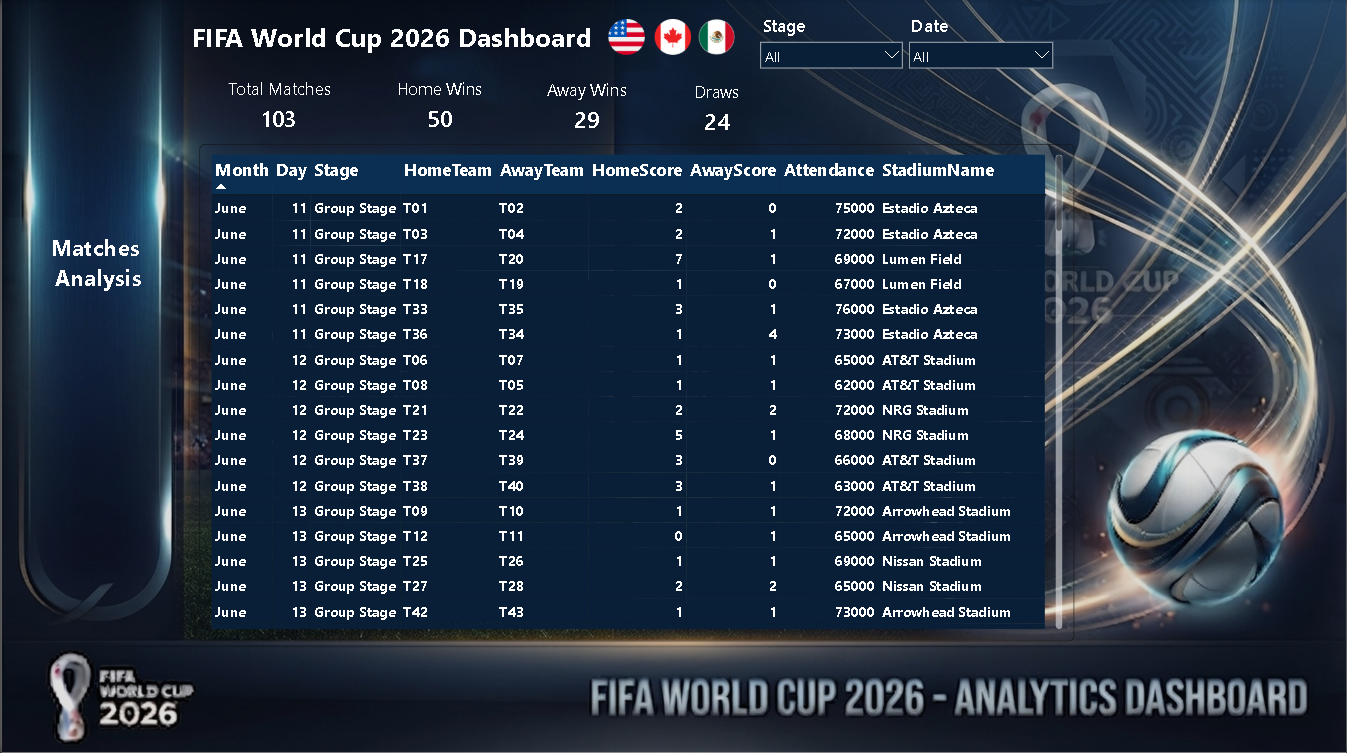

The dashboard page shown, as its layout file describes it:
{"tool":"powerbi","page":{"name":"Matches","canvas":[1920,1080],"ordinal":3},"visuals":[{"type":"textbox","box":[42.2,332.9,189.9,93.8],"z":0},{"type":"cardVisual","fields":{"Data":["Dax.Total Matches"]},"box":[281.3,100.8,229.8,103.2],"z":1000},{"type":"textbox","box":[260.2,28.1,600.2,72.7],"z":2000},{"type":"image","box":[860.4,28.1,63.3,51.6],"z":3000},{"type":"image","box":[926.1,28.1,63.3,51.6],"z":4000},{"type":"image","box":[989.4,28.1,63.3,51.6],"z":5000},{"type":"cardVisual","fields":{"Data":["Dax.Home Wins"]},"box":[511.1,100.8,229.8,103.2],"z":6000},{"type":"cardVisual","fields":{"Data":["Dax.Away Wins"]},"box":[712.7,100.8,246.2,105.5],"z":7000},{"type":"cardVisual","fields":{"Data":["Dax.Draws"]},"box":[897.9,103.2,246.2,103.2],"z":8000},{"type":"tableEx","fields":{"Values":["4_Matches.Date.Variation.Date Hierarchy.Month","4_Matches.Date.Variation.Date Hierarchy.Day","4_Matches.Stage","4_Matches.HomeTeamID","4_Matches.AwayTeamID","4_Matches.HomeScore","4_Matches.AwayScore","4_Matches.Attendance","3_Stadiums.StadiumName"]},"box":[281.3,206.3,1249.6,710.4],"z":9000},{"type":"slicer","fields":{"Values":["4_Matches.Stage"]},"box":[1078.5,21.1,213.3,79.7],"z":10000},{"type":"slicer","fields":{"Values":["4_Matches.Date"]},"box":[1291.8,21.1,215.7,79.7],"z":11000}]}

Visuals, with their boxes in screenshot pixels (x1, y1, x2, y2), scaled from the page's 1920x1080 canvas onto the 1347x753 screenshot:
textbox: [30,232,163,298]
cardVisual - Dax.Total Matches: [197,70,359,142]
textbox: [183,20,604,70]
image: [604,20,648,56]
image: [650,20,694,56]
image: [694,20,739,56]
cardVisual - Dax.Home Wins: [359,70,520,142]
cardVisual - Dax.Away Wins: [500,70,673,144]
cardVisual - Dax.Draws: [630,72,803,144]
tableEx - 4_Matches.Date.Variation.Date Hierarchy.Month x 4_Matches.Date.Variation.Date Hierarchy.Day: [197,144,1074,639]
slicer - 4_Matches.Stage: [757,15,906,70]
slicer - 4_Matches.Date: [906,15,1058,70]
